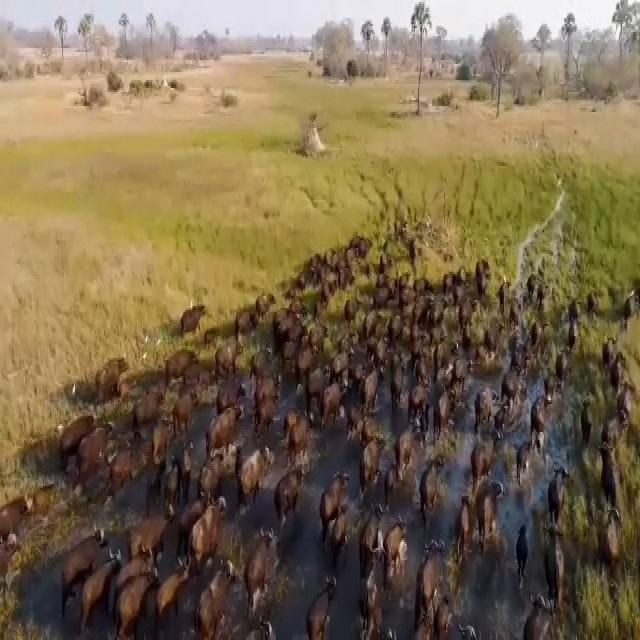Buffalo: (195, 566, 238, 639), (197, 426, 236, 504), (414, 542, 452, 616), (120, 539, 151, 623), (276, 449, 308, 528), (134, 496, 175, 557), (187, 500, 221, 573), (426, 336, 466, 396), (308, 579, 347, 640), (246, 534, 275, 610), (0, 517, 32, 581), (322, 482, 358, 537), (380, 508, 411, 570), (0, 482, 34, 537), (78, 423, 109, 481), (108, 442, 140, 497), (512, 427, 541, 487), (544, 536, 572, 598), (601, 459, 634, 510), (65, 534, 103, 578), (88, 547, 116, 606), (94, 338, 122, 396), (358, 584, 387, 640), (320, 379, 356, 424), (246, 397, 284, 437), (240, 453, 267, 509), (357, 359, 384, 414), (162, 557, 182, 630), (359, 436, 390, 481), (422, 454, 444, 516), (468, 426, 494, 478), (598, 511, 623, 562), (480, 482, 500, 545), (291, 398, 311, 460), (297, 330, 321, 378), (523, 596, 549, 640), (322, 249, 352, 287), (174, 385, 198, 432), (216, 342, 244, 381), (65, 408, 89, 452), (163, 348, 195, 380), (218, 408, 250, 440), (564, 308, 587, 352), (458, 282, 478, 332), (134, 386, 167, 414), (431, 398, 457, 433), (234, 305, 264, 335), (393, 312, 421, 344), (603, 394, 617, 458), (579, 396, 600, 438), (180, 306, 203, 344), (456, 493, 470, 552), (397, 420, 413, 469), (407, 376, 428, 413), (529, 312, 550, 349), (366, 505, 382, 553), (473, 349, 492, 389), (553, 464, 567, 518), (274, 319, 298, 349), (432, 288, 449, 330), (253, 282, 276, 313), (621, 373, 633, 431), (396, 276, 418, 307), (369, 314, 386, 354), (526, 266, 540, 310), (253, 373, 279, 396), (530, 382, 544, 424), (313, 282, 329, 316), (500, 370, 518, 399), (290, 287, 307, 317), (512, 343, 528, 372), (344, 293, 357, 315), (608, 333, 616, 362), (302, 373, 327, 382), (550, 352, 564, 368)
